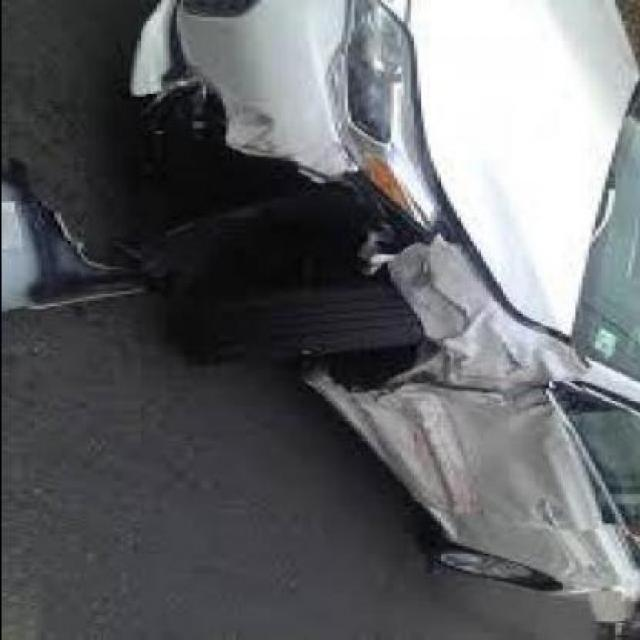damage: (130, 52, 615, 530)
